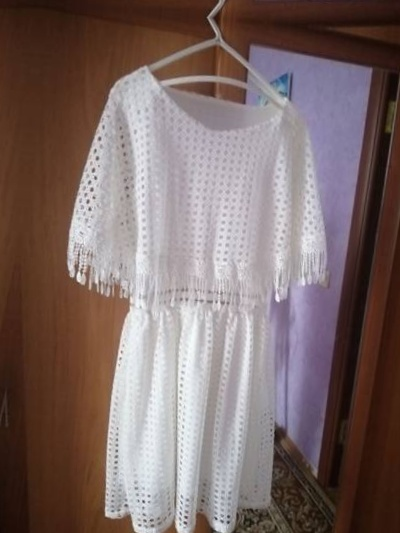Dress: (44, 44, 345, 533)
